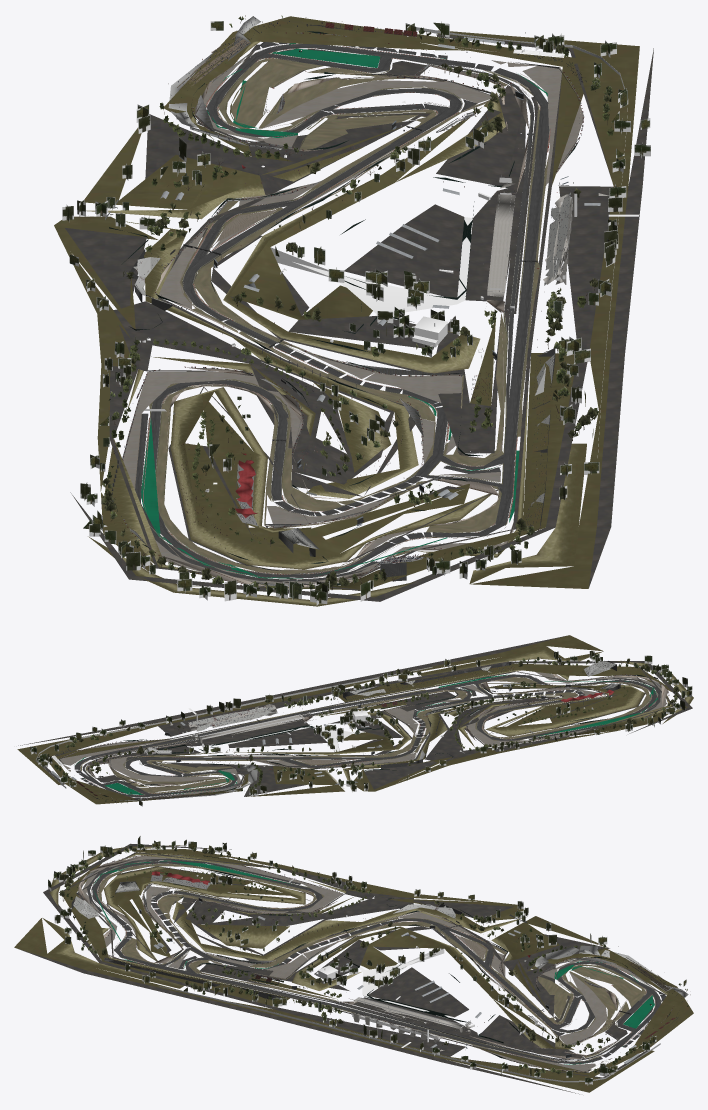
Rendered from catalunya-low.glb.
The picture shows the model from 3 angles, top to bottom: view 1: azimuth 30°, elevation 25°; view 2: azimuth 150°, elevation 25°; view 3: azimuth 270°, elevation 25°; orthographic projection. The views are drawn at different scales.
Parts seen in each view (by area): view 1: catalunya; view 2: catalunya; view 3: catalunya.
Boxes of the visible parts, bbox=[...] form: catalunya: bbox=[54, 15, 653, 606]; catalunya: bbox=[17, 635, 693, 806]; catalunya: bbox=[14, 836, 693, 1094].
Size of the model in its own units: 209 by 16.74 by 240.
96 materials, 95 textured.
